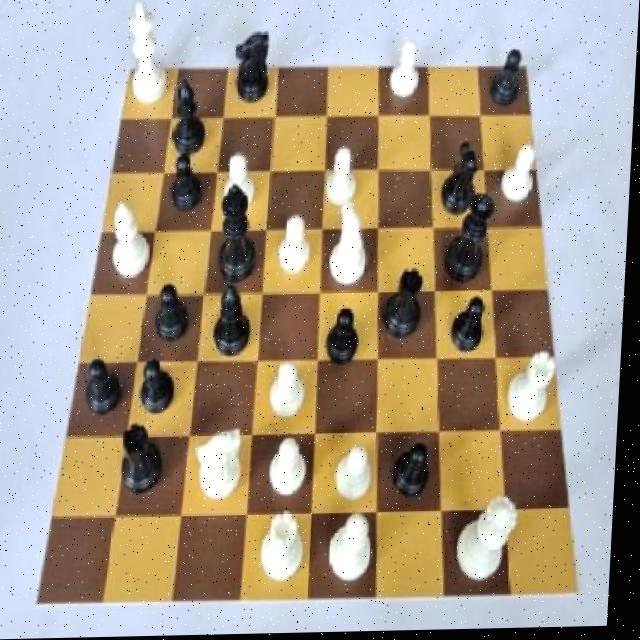bishop: (208, 280, 260, 363), (166, 73, 214, 158)
black-bishop: (213, 183, 262, 288)
black-king: (224, 23, 279, 112), (436, 139, 488, 226)
black-knight: (448, 288, 499, 365), (81, 350, 132, 426), (138, 355, 188, 427), (392, 438, 444, 507), (321, 307, 372, 377), (153, 278, 200, 348), (485, 48, 529, 114)
black-pawn: (442, 191, 501, 290)
black-queen: (382, 264, 435, 348), (120, 417, 169, 499)
black-rook: (103, 197, 160, 287), (331, 504, 384, 594)
white-bishop: (117, 0, 172, 112)
white-king: (197, 417, 255, 514), (325, 206, 377, 291)
white-knight: (335, 440, 384, 515), (263, 357, 313, 427), (270, 434, 317, 506), (277, 208, 322, 282), (501, 141, 545, 216), (318, 141, 363, 213), (381, 40, 426, 110), (219, 152, 266, 217)
white-pawn: (466, 494, 528, 582)
white-queen: (503, 345, 567, 430), (260, 510, 317, 592)
